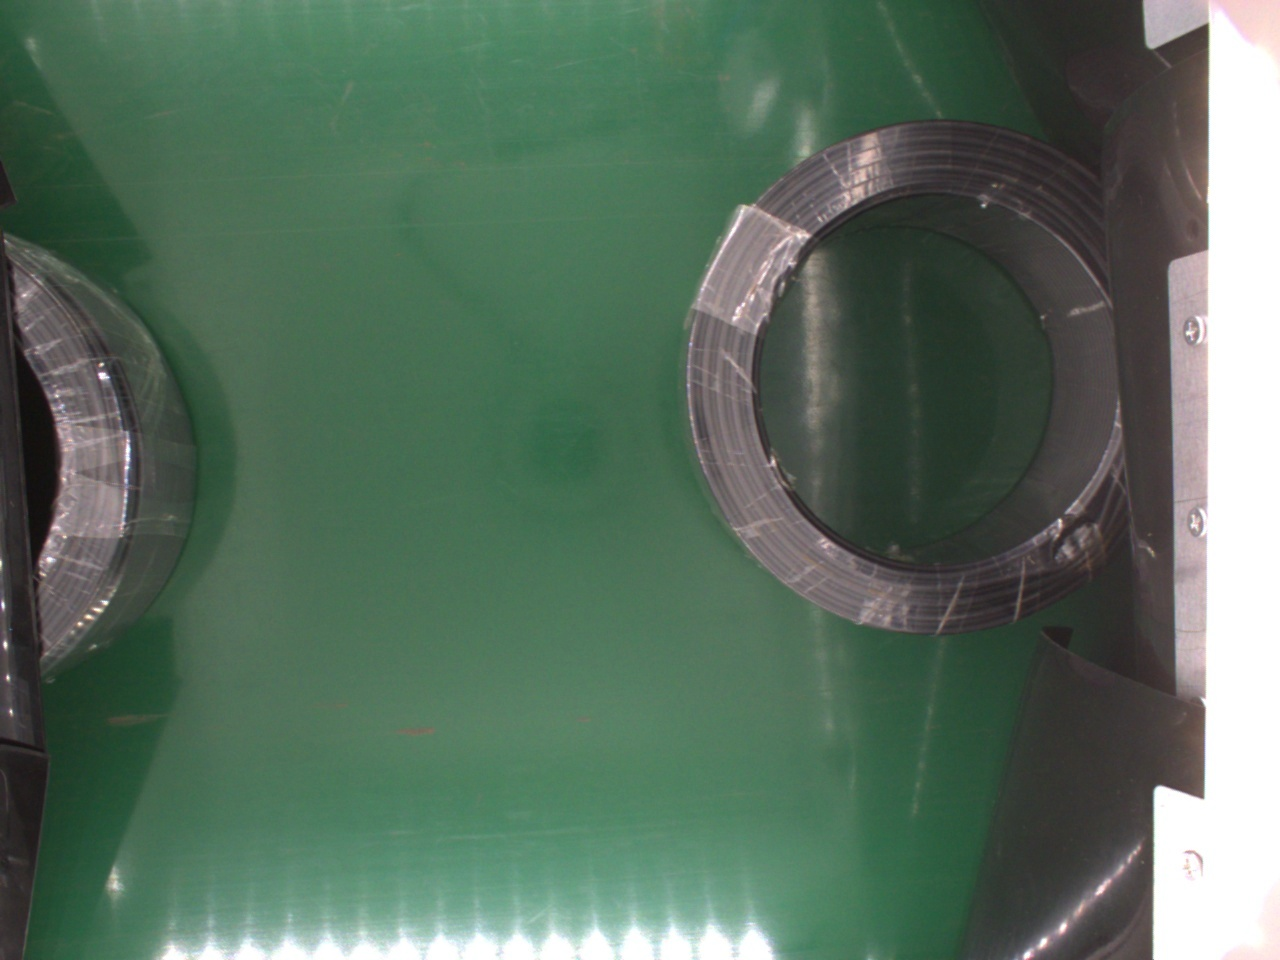black: (686, 120, 1122, 637), (15, 235, 202, 674)
